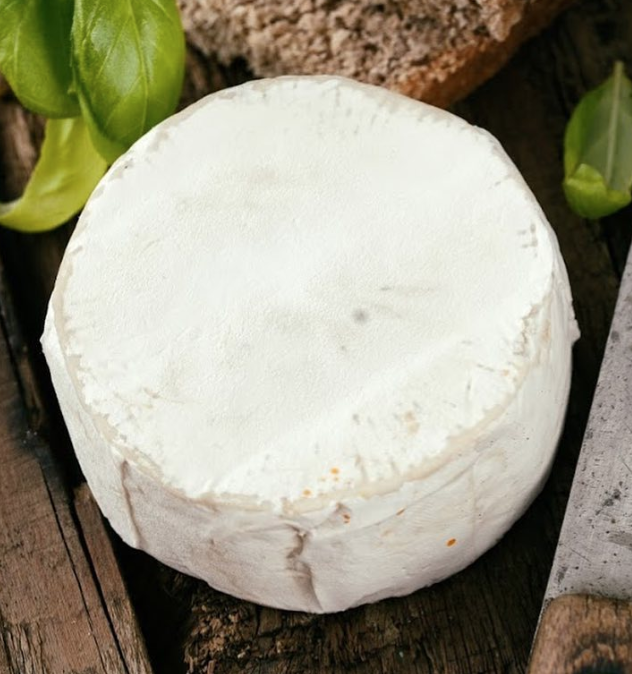camembert: (38, 72, 581, 615)
